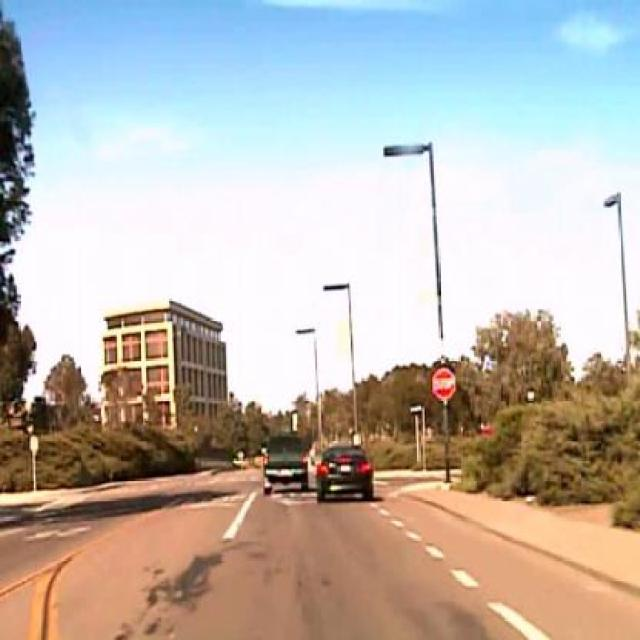stop: (432, 364, 457, 400)
